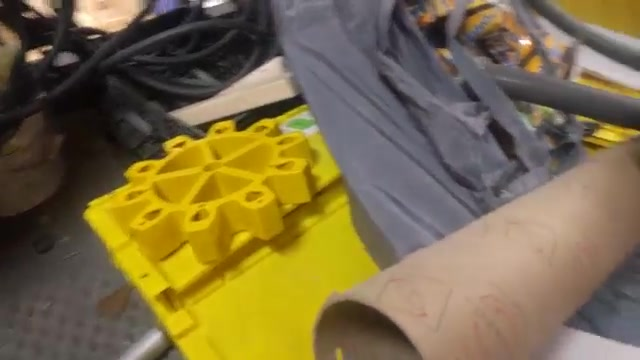gear: (105, 127, 323, 264)
